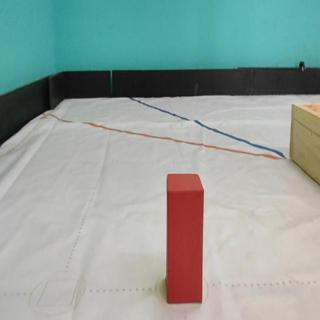redbox: (166, 173, 202, 305)
